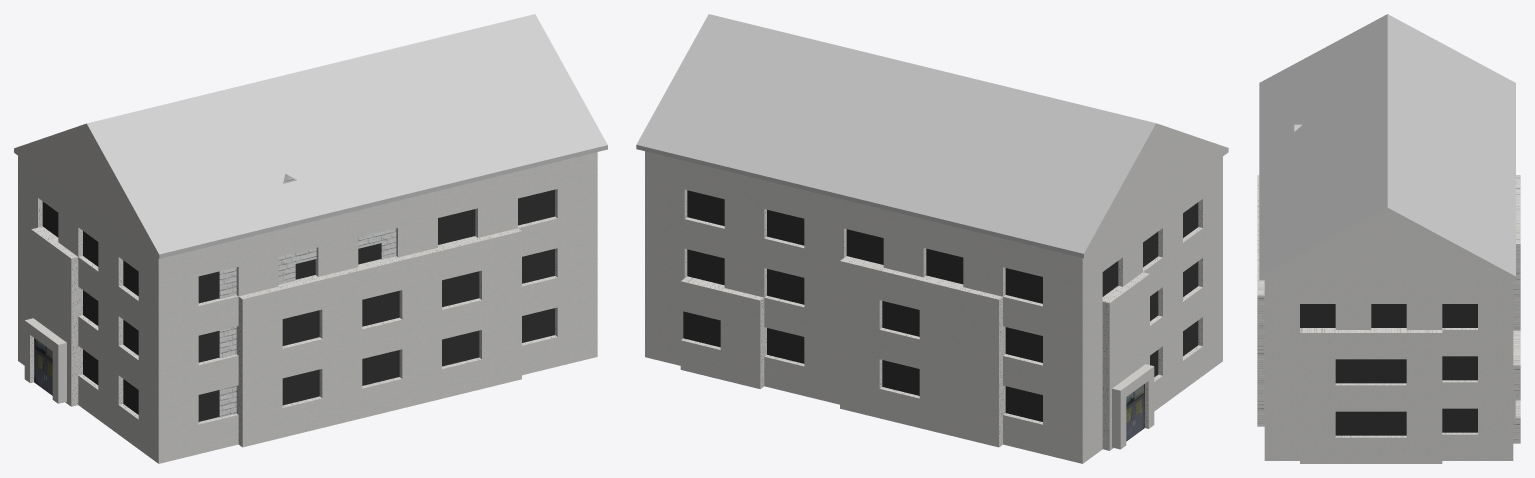
The model's file is Buildings.FBX.
3 views of the same model, side by side, from view 1: azimuth 30°, elevation 25°; view 2: azimuth 150°, elevation 25°; view 3: azimuth 270°, elevation 25° (orthographic). The views are drawn at different scales.
Visible parts, largest first — view 1: Building_03, Building_02; view 2: Building_03; view 3: Building_03.
Boxes of the visible parts, bbox=[...] form: Building_03: bbox=[14, 14, 607, 463]; Building_02: bbox=[219, 173, 396, 417]; Building_03: bbox=[636, 14, 1228, 463]; Building_03: bbox=[1257, 14, 1520, 463].
Bounding box in the file's own units: 4609 × 2787 × 2573.
